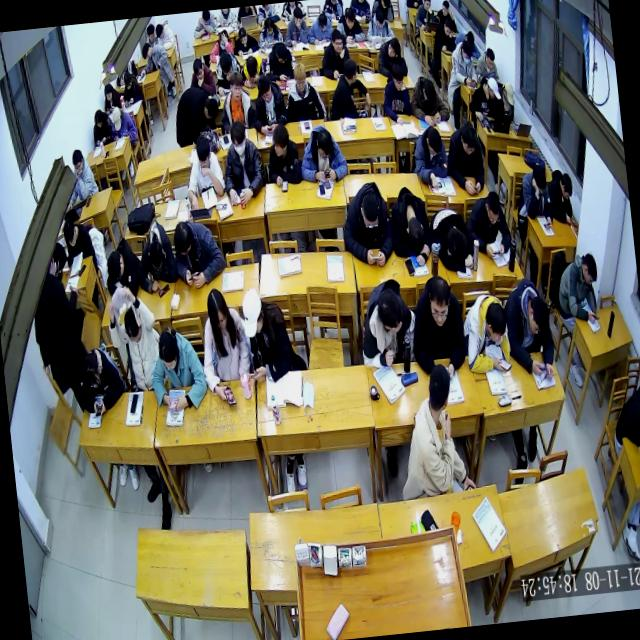bow: (502, 273, 558, 385), (146, 322, 212, 416), (170, 214, 228, 292), (460, 288, 512, 375), (386, 182, 434, 268), (131, 218, 181, 296), (75, 342, 127, 417), (426, 204, 476, 276), (102, 237, 144, 303), (406, 72, 451, 130), (544, 166, 578, 228), (375, 34, 408, 82), (211, 48, 243, 96), (238, 53, 267, 91), (230, 24, 260, 58), (207, 28, 234, 64), (190, 10, 216, 39)
down: (239, 286, 267, 340), (205, 286, 231, 332), (156, 328, 181, 374), (526, 294, 552, 338), (483, 300, 507, 344), (120, 304, 144, 346), (171, 218, 195, 259), (358, 192, 381, 232), (82, 352, 104, 392), (228, 118, 249, 159), (104, 248, 126, 284), (483, 190, 503, 228), (145, 237, 166, 273), (458, 121, 478, 158), (194, 134, 213, 172), (314, 126, 334, 162), (580, 252, 600, 288), (424, 127, 444, 158), (531, 162, 548, 196), (292, 62, 310, 94), (255, 74, 272, 105), (62, 218, 78, 248), (70, 148, 86, 178), (390, 63, 406, 92), (559, 170, 574, 200), (422, 80, 438, 108), (243, 54, 260, 80), (218, 51, 234, 78), (273, 40, 289, 66), (460, 39, 476, 64), (110, 106, 124, 133), (502, 81, 516, 108), (191, 58, 205, 82), (343, 5, 356, 30), (140, 41, 154, 62), (218, 27, 230, 51), (484, 46, 496, 70), (374, 7, 386, 30), (102, 82, 114, 103), (122, 70, 134, 91), (316, 11, 328, 32), (442, 17, 454, 37), (237, 26, 248, 46), (154, 21, 165, 40), (264, 16, 274, 36), (200, 11, 212, 27)
lookup: (426, 274, 454, 330), (227, 69, 246, 102), (330, 26, 344, 54), (423, 0, 432, 12)
sit: (388, 360, 476, 502), (194, 283, 253, 409), (406, 270, 469, 381), (104, 282, 164, 395), (238, 282, 302, 387), (353, 275, 419, 370), (337, 178, 398, 269), (218, 117, 268, 207), (552, 250, 602, 328), (442, 118, 488, 198), (182, 132, 228, 212), (464, 188, 514, 260), (296, 122, 349, 186), (325, 55, 372, 122), (280, 60, 326, 124), (518, 160, 556, 233), (246, 71, 288, 137), (410, 123, 451, 190), (262, 122, 303, 187), (216, 68, 257, 133), (378, 61, 414, 127), (57, 214, 96, 274), (609, 389, 640, 455), (66, 146, 100, 204), (318, 27, 352, 82), (465, 73, 502, 123), (263, 38, 299, 85), (447, 36, 478, 90), (334, 4, 366, 45), (280, 6, 310, 48), (137, 40, 170, 78), (363, 5, 395, 43), (188, 56, 216, 99), (110, 105, 138, 146), (431, 15, 458, 56), (305, 9, 334, 46), (90, 107, 115, 148), (119, 67, 144, 107), (473, 46, 499, 84), (256, 14, 284, 49), (497, 81, 518, 125), (101, 80, 123, 116), (154, 18, 176, 51), (413, 0, 435, 30)
